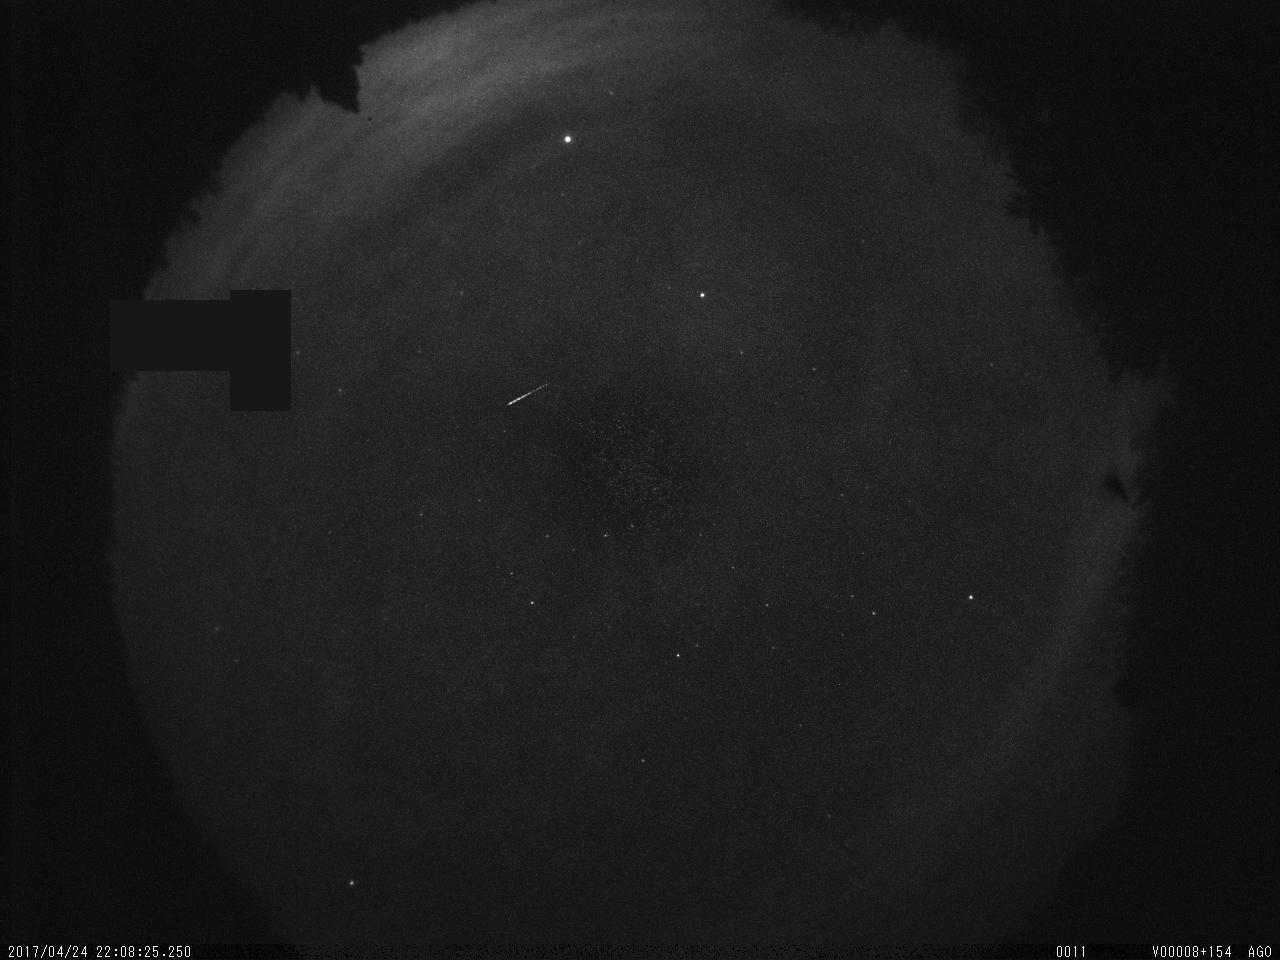meteor: (502, 367, 559, 421)
